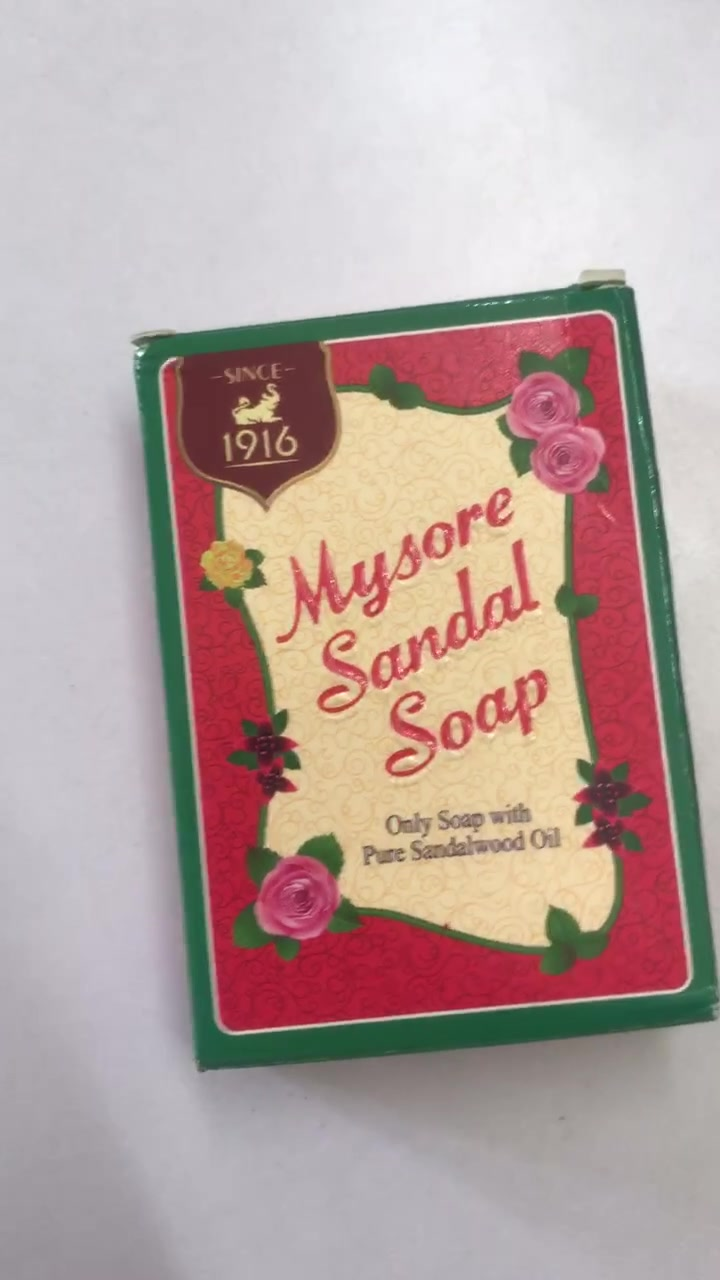mysore sandal soap: (135, 289, 720, 1077)
